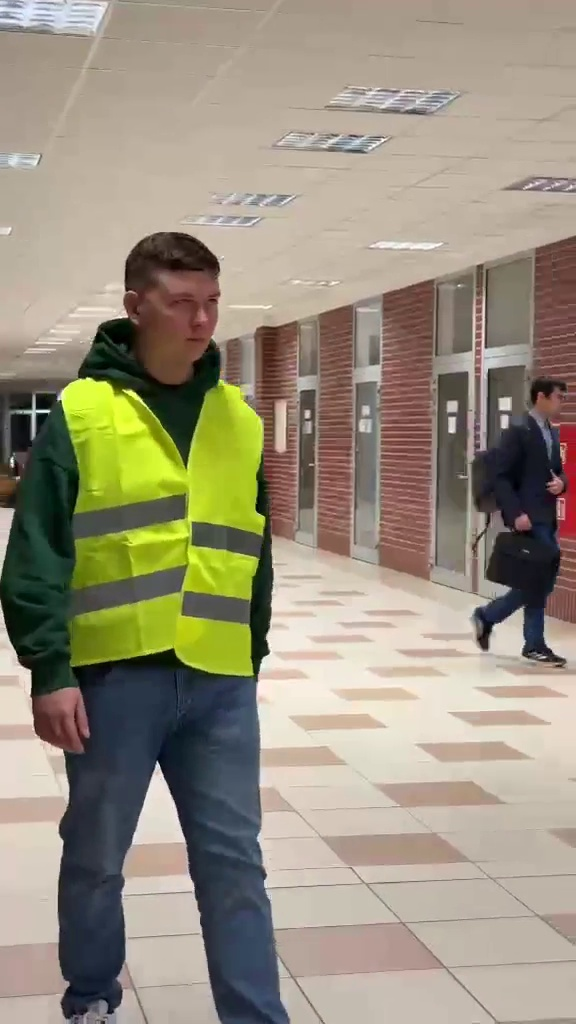no vest: (464, 367, 569, 667)
vest: (0, 224, 300, 1004)
